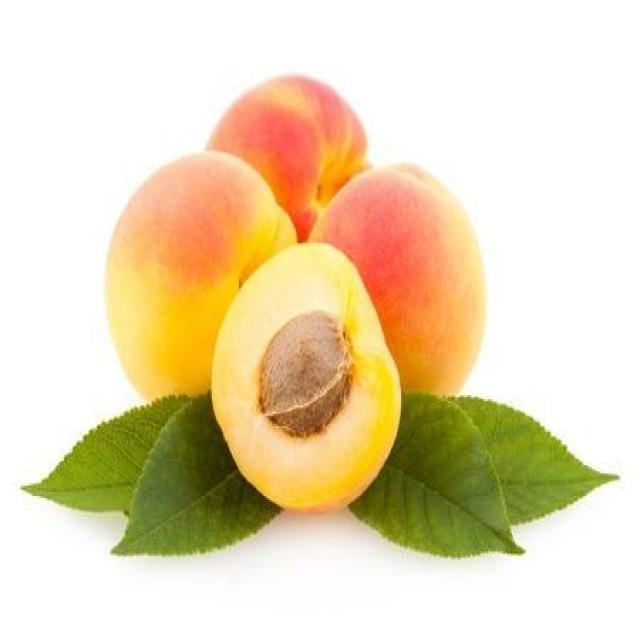cekirdek: (261, 312, 354, 429)
kayisi: (217, 250, 394, 508), (342, 178, 492, 387), (112, 157, 261, 350), (235, 84, 349, 226)
yaprak: (357, 391, 527, 555), (113, 398, 283, 560), (462, 394, 612, 523), (26, 395, 181, 514)
